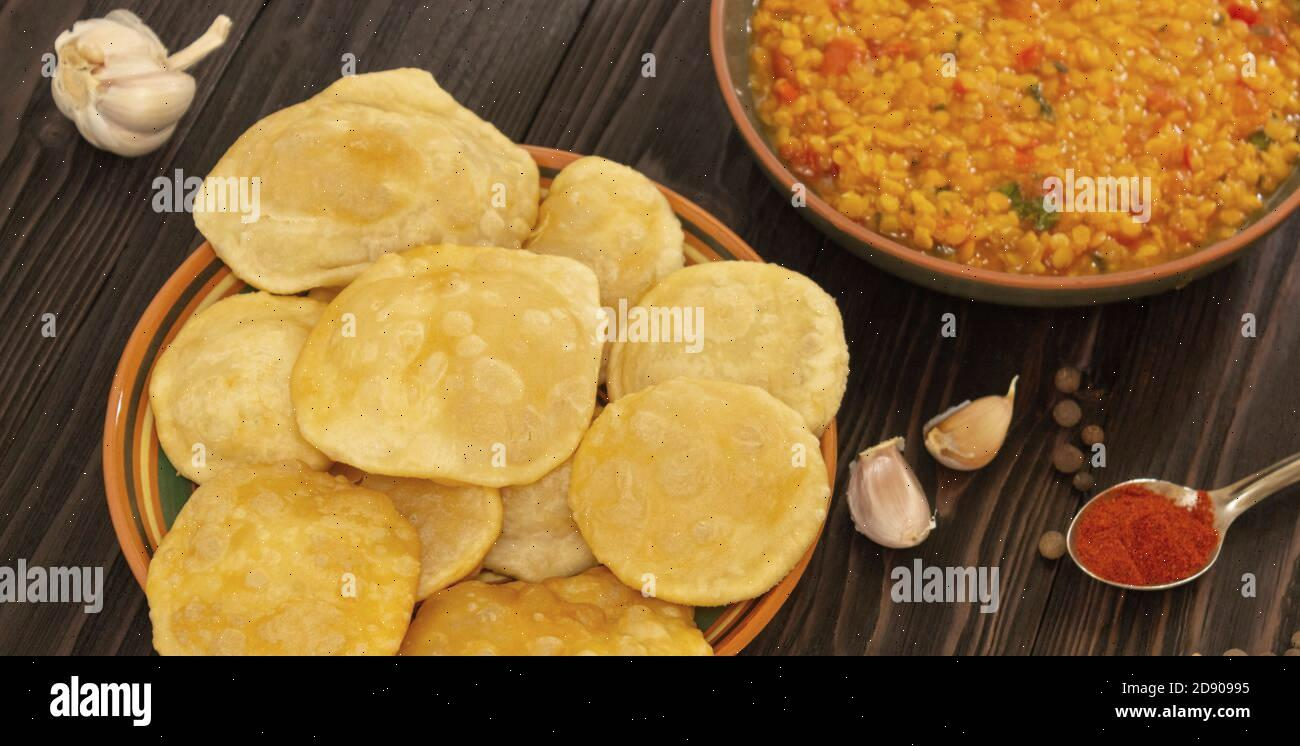puri: (168, 142, 832, 658)
